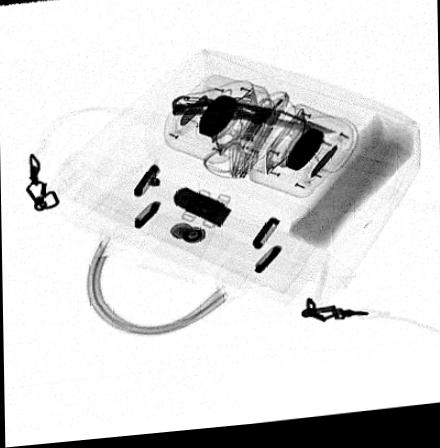Knife: (169, 97, 335, 140)
